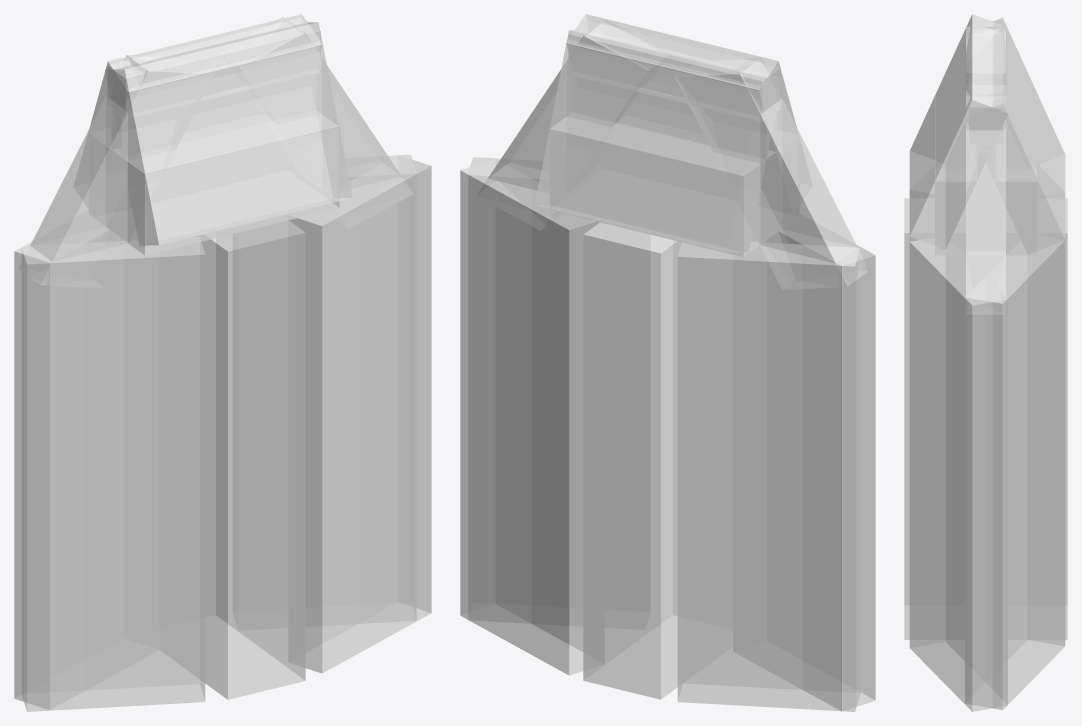
File: base_outline.obj
3 views of the same model, side by side, from view 1: azimuth 30°, elevation 25°; view 2: azimuth 150°, elevation 25°; view 3: azimuth 270°, elevation 25° (orthographic). The views are drawn at different scales.
Visible parts, largest first — view 1: cube, cube1, cube5, cube7, cube10, cube9, cube6, cube12, cube8, cube11; view 2: cube1, cube, cube5, cube8, cube10, cube9, cube6, cube7, cube12, cube11; view 3: cube5, cube1, cube, cube10, cube7, cube8, cube6, cube12, cube11, cube9.
Boxes of the visible parts, bbox=[...] form: cube: bbox=[21, 155, 431, 711]; cube1: bbox=[14, 154, 416, 709]; cube5: bbox=[160, 215, 305, 699]; cube7: bbox=[105, 22, 352, 245]; cube10: bbox=[89, 114, 339, 255]; cube9: bbox=[19, 55, 213, 288]; cube6: bbox=[240, 17, 412, 228]; cube12: bbox=[107, 18, 320, 119]; cube8: bbox=[74, 14, 321, 206]; cube11: bbox=[111, 89, 272, 156]; cube1: bbox=[460, 159, 860, 711]; cube: bbox=[467, 157, 875, 711]; cube5: bbox=[583, 222, 732, 699]; cube8: bbox=[534, 30, 782, 252]; cube10: bbox=[549, 117, 798, 257]; cube9: bbox=[675, 58, 868, 289]; cube6: bbox=[476, 20, 648, 230]; cube7: bbox=[566, 14, 811, 203]; cube12: bbox=[568, 21, 780, 121]; cube11: bbox=[616, 92, 776, 158]; cube5: bbox=[904, 198, 1067, 639]; cube1: bbox=[965, 164, 1065, 710]; cube: bbox=[909, 165, 1007, 711]; cube10: bbox=[935, 95, 1036, 255]; cube7: bbox=[909, 14, 1007, 249]; cube8: bbox=[965, 18, 1065, 253]; cube6: bbox=[966, 85, 1005, 313]; cube12: bbox=[969, 21, 1002, 143]; cube11: bbox=[976, 144, 995, 180]; cube9: bbox=[966, 26, 1005, 62].
Bounding box in the file's own units: 0.7791 × 1.14 × 0.3.
